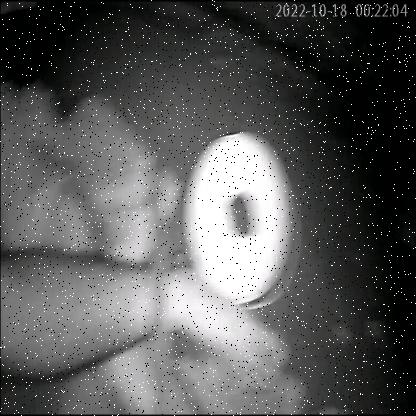leg: (0, 228, 301, 409)
